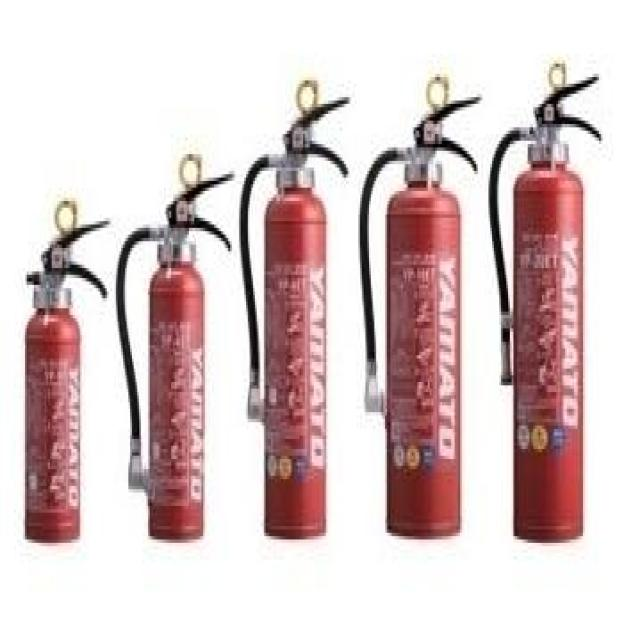fire_extinguisher: (359, 68, 479, 534), (487, 55, 600, 541), (236, 74, 347, 536), (112, 146, 234, 538), (21, 191, 106, 539)
